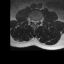CCS_normal: (34, 18, 36, 27)
LFS_normal: (37, 18, 40, 24)
LLS_normal: (36, 18, 37, 25)
RFS_normal: (30, 17, 32, 23)
RLS_normal: (32, 18, 34, 25)
